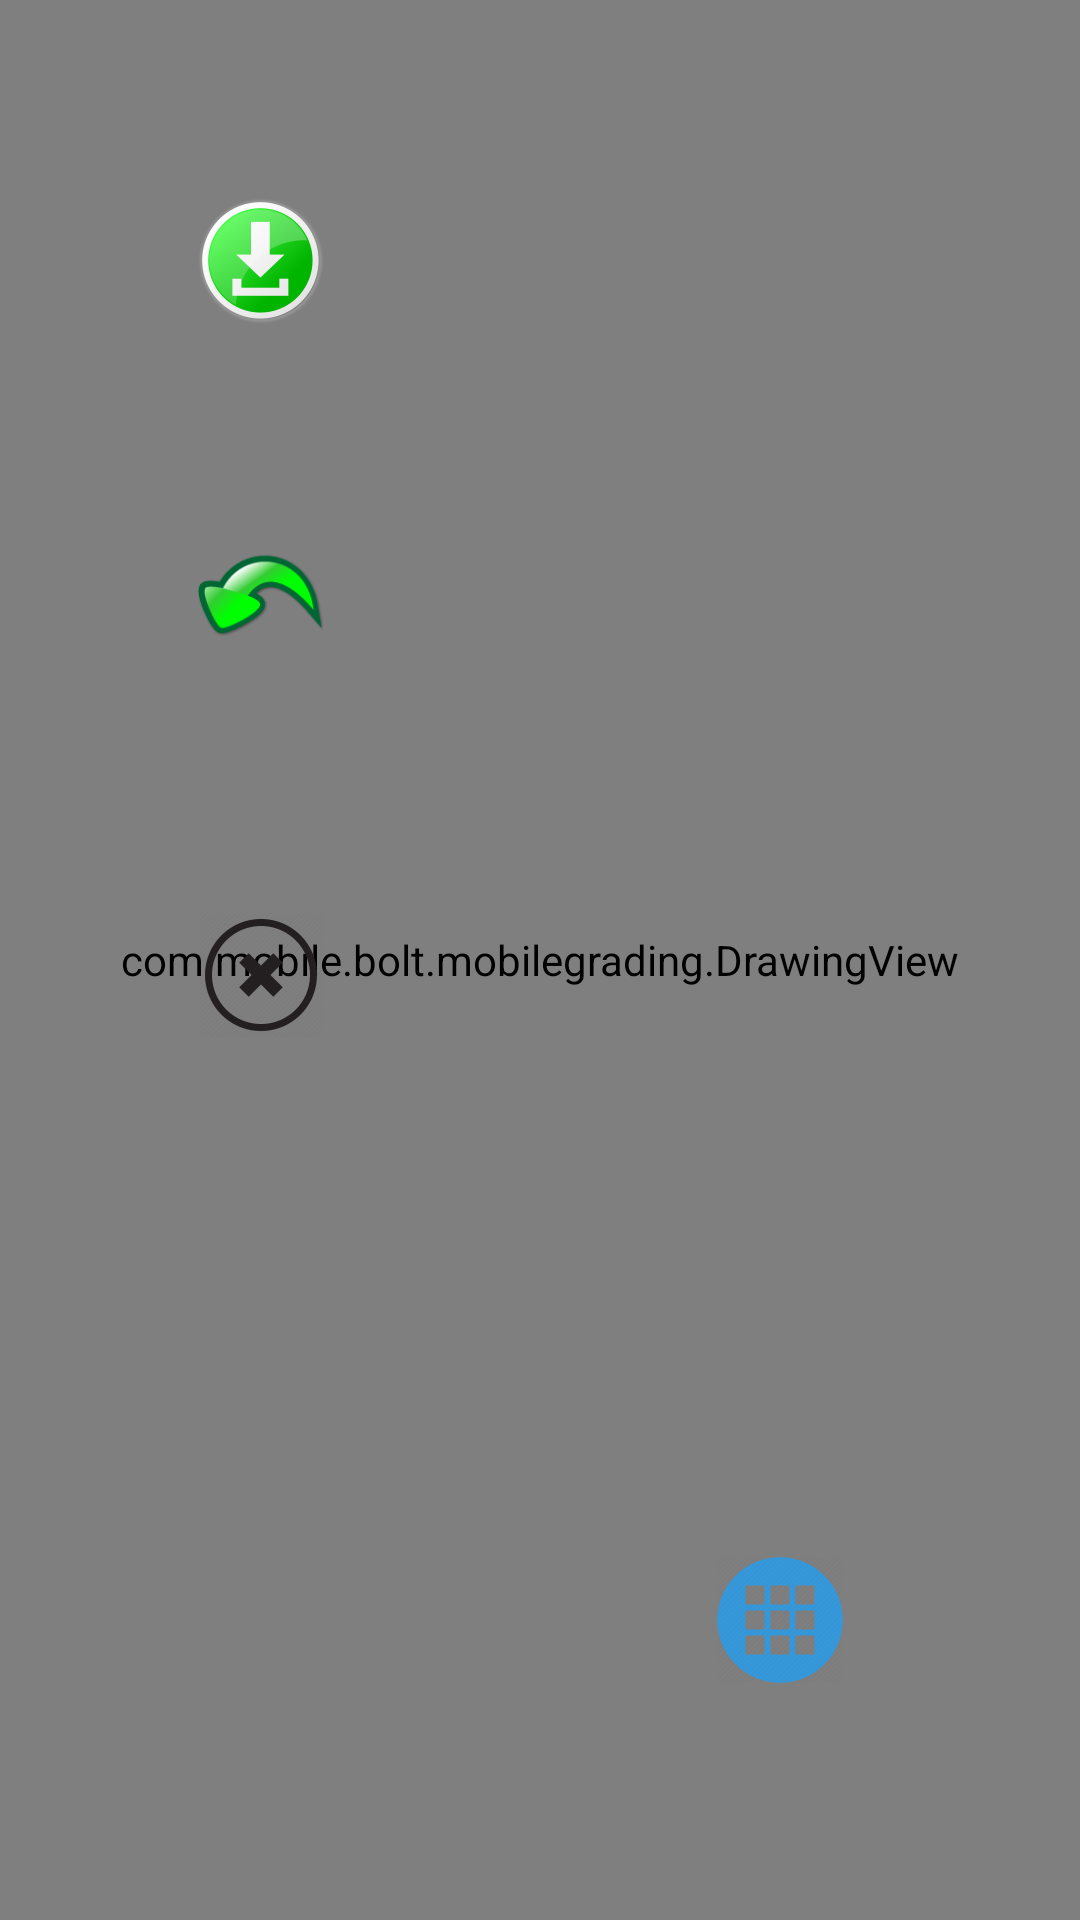

Icons on this 1080*1920 Android screen, each with the point to tap as (x=x, y=y):
cancel: (x=261, y=975)
grid: (x=780, y=1620)
save buttons: (x=260, y=260)
undo: (x=260, y=594)
